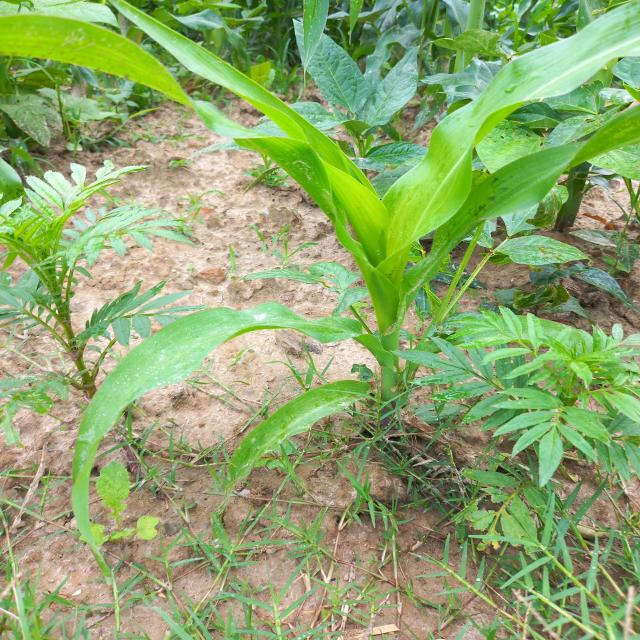maize: (245, 120, 446, 410)
weed: (318, 433, 640, 640), (467, 320, 640, 640), (0, 160, 128, 418), (303, 42, 435, 109)
